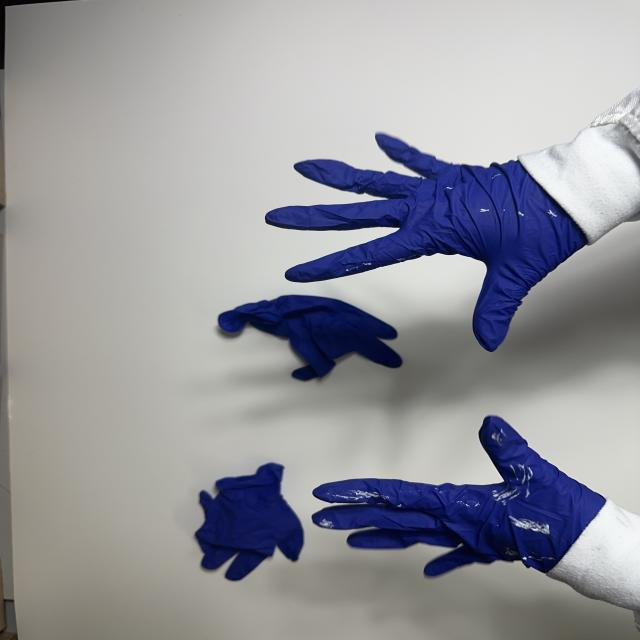gloves_contaminated: (266, 134, 586, 351), (312, 416, 605, 576)
